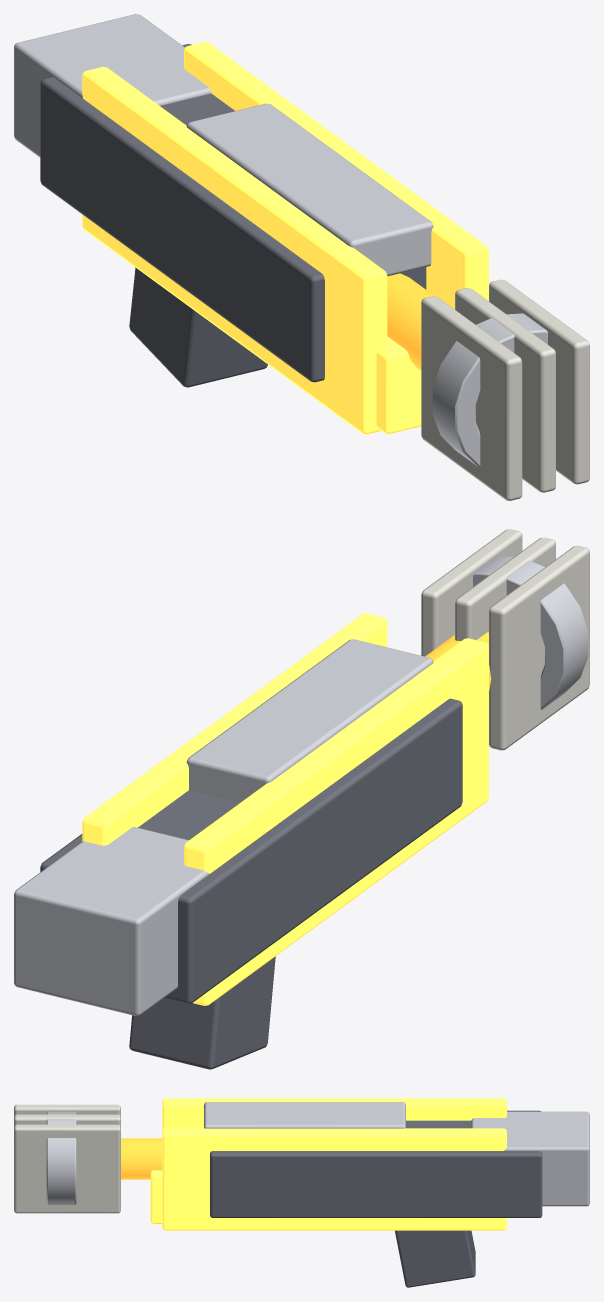
The model's file is weapon_fireball.glb.
The picture shows the model from 3 angles, top to bottom: view 1: azimuth 30°, elevation 25°; view 2: azimuth 150°, elevation 25°; view 3: azimuth 270°, elevation 25°; orthographic projection. The views are drawn at different scales.
Parts seen in each view (by area): view 1: Body, SideStripe_0, TopVent, RearHousing, MuzzleFin_n0_08, SideStripe_1, Grip.003, MuzzleFin_0_08, MuzzleFin_0_0, MuzzleRing, Canister, CoreTube; view 2: Body, RearHousing, SideStripe_0, TopVent, MuzzleFin_n0_08, Grip.003, SideStripe_1, MuzzleRing, MuzzleFin_0_08, MuzzleFin_0_0; view 3: Body, SideStripe_1, MuzzleFin_0_08, RearHousing, TopVent, SideStripe_0, Grip.003, MuzzleRing, CoreTube, MuzzleFin_n0_08, MuzzleFin_0_0, Canister.
Part boxes in pixels (box(x1,y1,x2,y2)): Body: box(40, 44, 426, 382); SideStripe_0: box(82, 66, 387, 434); TopVent: box(186, 103, 433, 276); RearHousing: box(14, 14, 211, 157); MuzzleFin_n0_08: box(421, 296, 522, 500); SideStripe_1: box(184, 42, 488, 309); Grip.003: box(129, 267, 267, 387); MuzzleFin_0_08: box(489, 279, 589, 484); MuzzleFin_0_0: box(455, 288, 555, 492); MuzzleRing: box(432, 313, 547, 467); Canister: box(376, 336, 421, 433); CoreTube: box(387, 273, 434, 370); Body: box(40, 698, 462, 1003); RearHousing: box(14, 827, 209, 1015); SideStripe_0: box(184, 638, 488, 1005); TopVent: box(186, 639, 433, 802); MuzzleFin_n0_08: box(489, 545, 589, 750); Grip.003: box(129, 956, 275, 1069); SideStripe_1: box(82, 613, 387, 845); MuzzleRing: box(473, 556, 588, 709); MuzzleFin_0_08: box(421, 529, 522, 656); MuzzleFin_0_0: box(455, 537, 555, 640); Body: box(210, 1110, 542, 1217); SideStripe_1: box(162, 1128, 506, 1230); MuzzleFin_0_08: box(14, 1124, 120, 1213); RearHousing: box(471, 1111, 589, 1206); TopVent: box(204, 1102, 405, 1128); SideStripe_0: box(162, 1098, 506, 1130); Grip.003: box(395, 1230, 475, 1287); MuzzleRing: box(46, 1111, 76, 1204); CoreTube: box(121, 1138, 162, 1179); MuzzleFin_n0_08: box(14, 1104, 120, 1116); MuzzleFin_0_0: box(14, 1114, 120, 1126); Canister: box(150, 1170, 162, 1223).
Bounding box in the file's own units: 0.36 × 0.6058 × 1.94.
